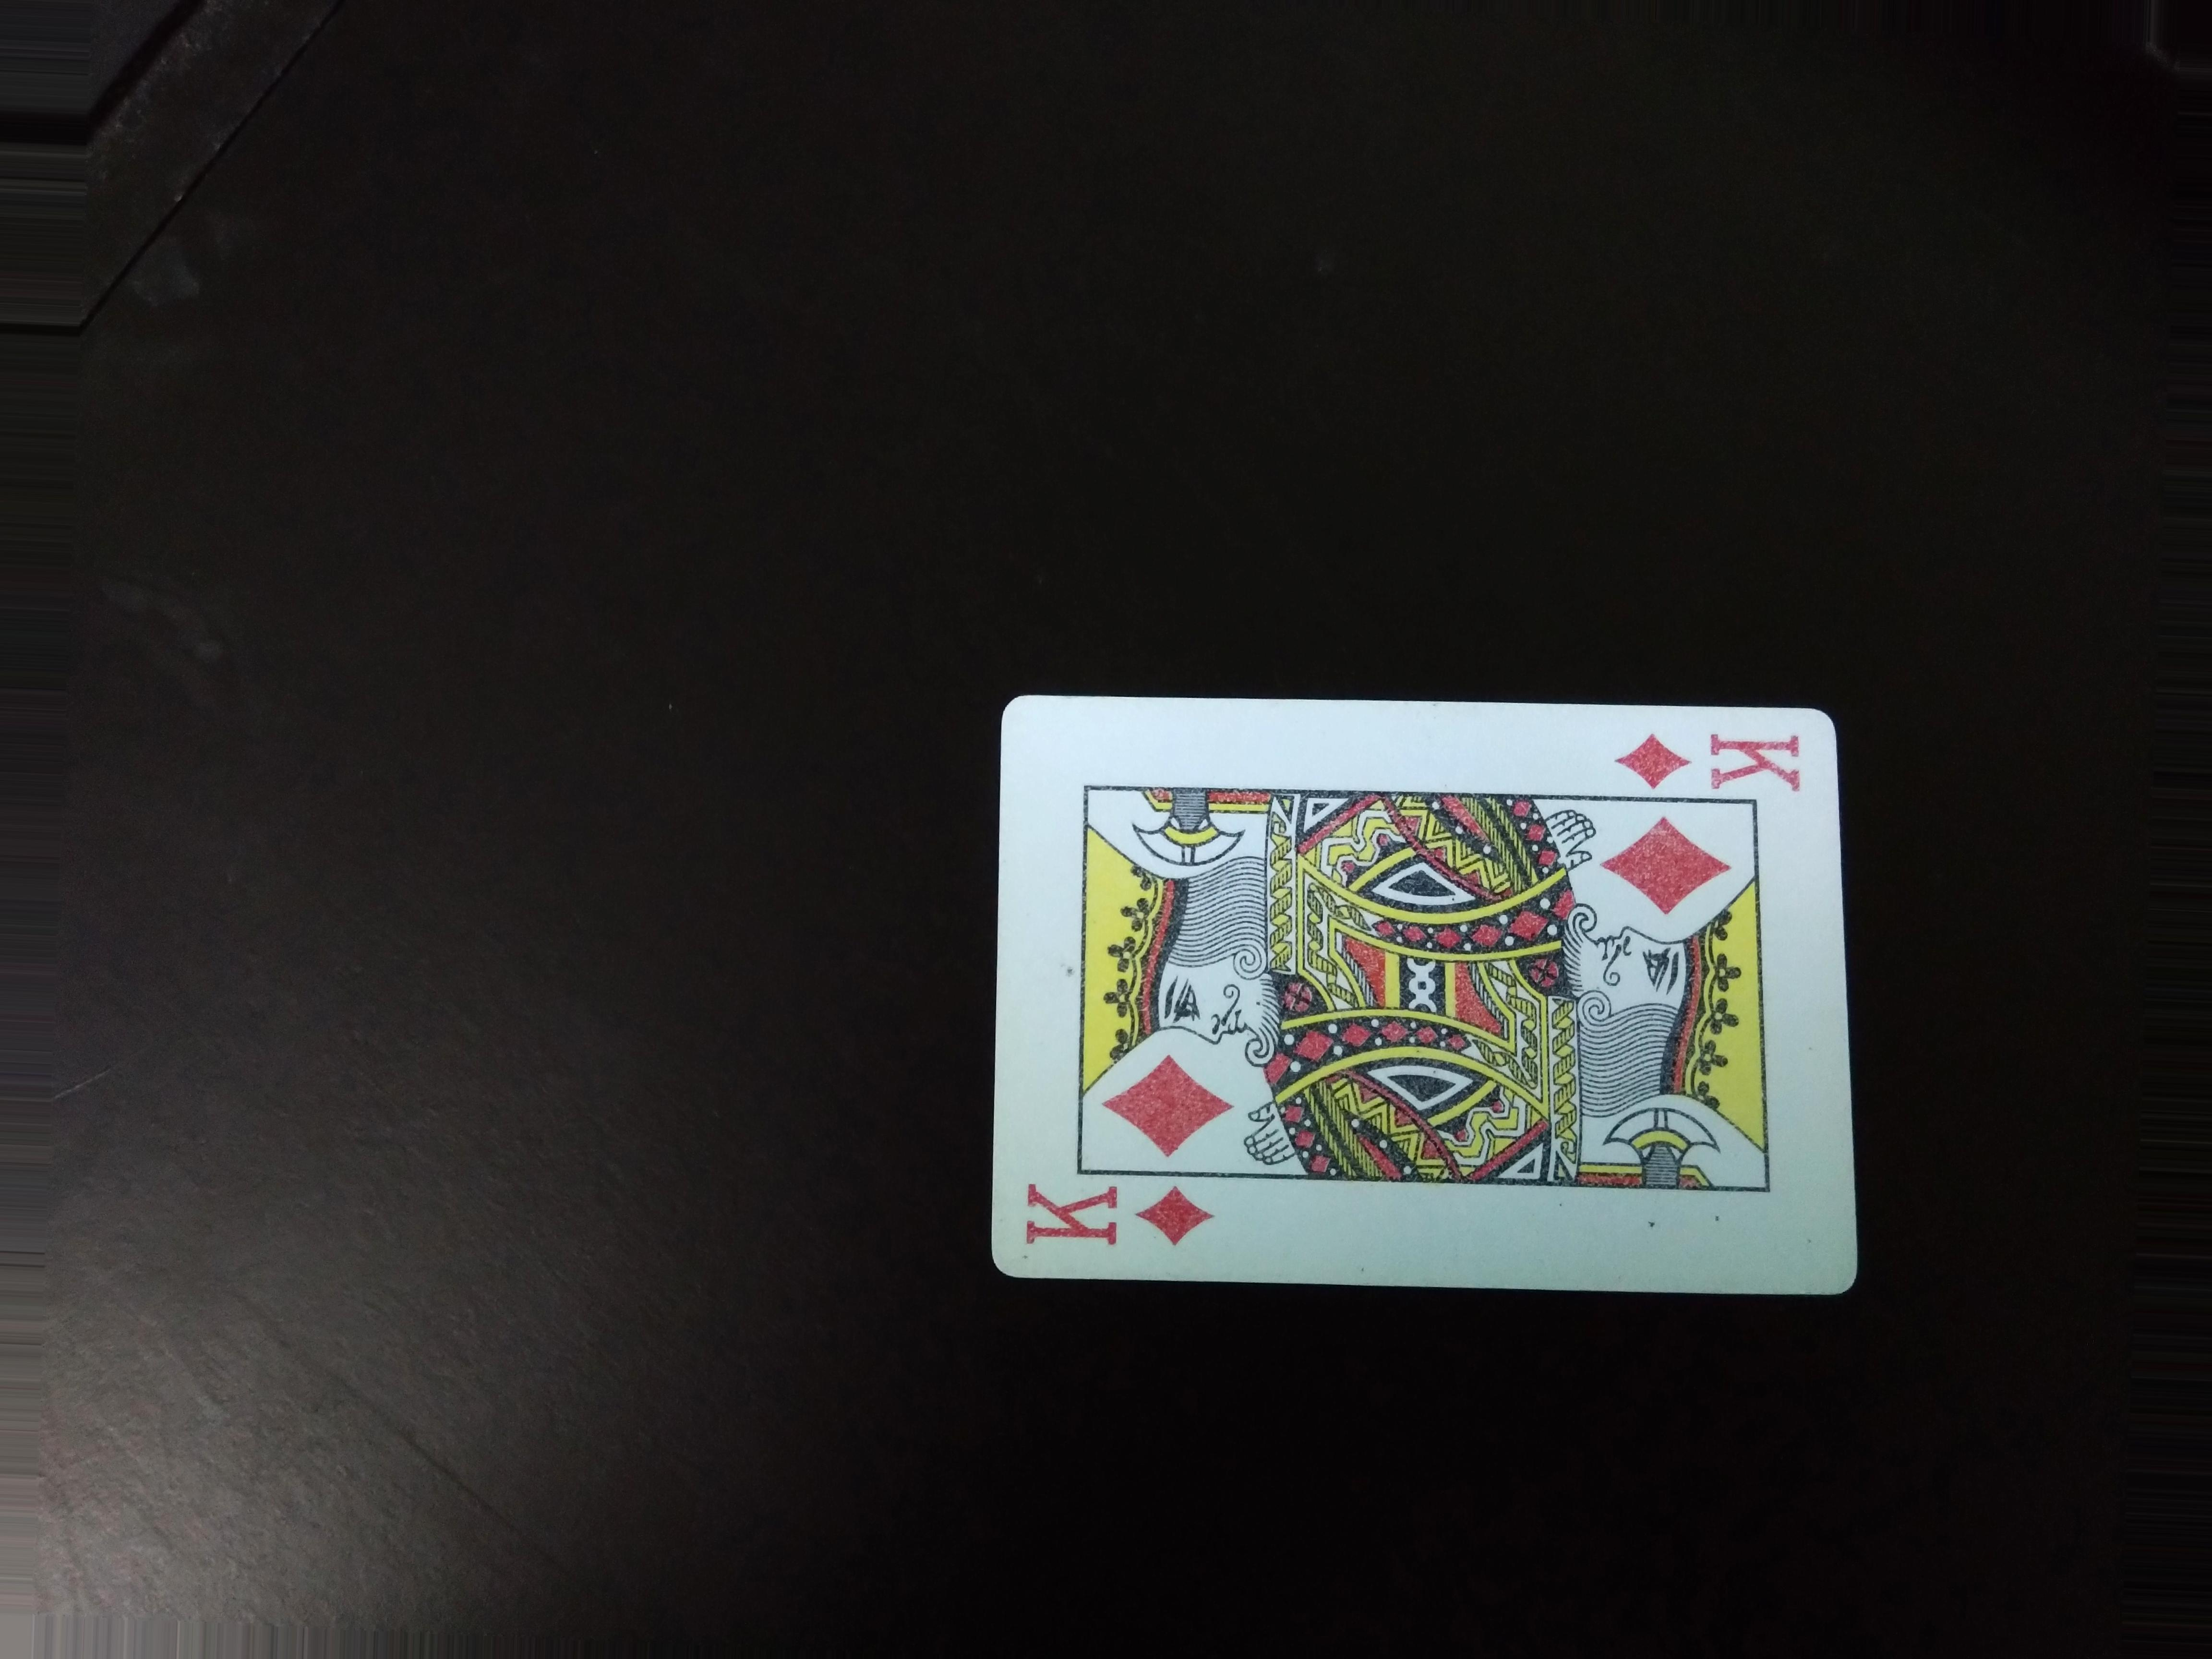KD: (1595, 716, 1820, 800)
